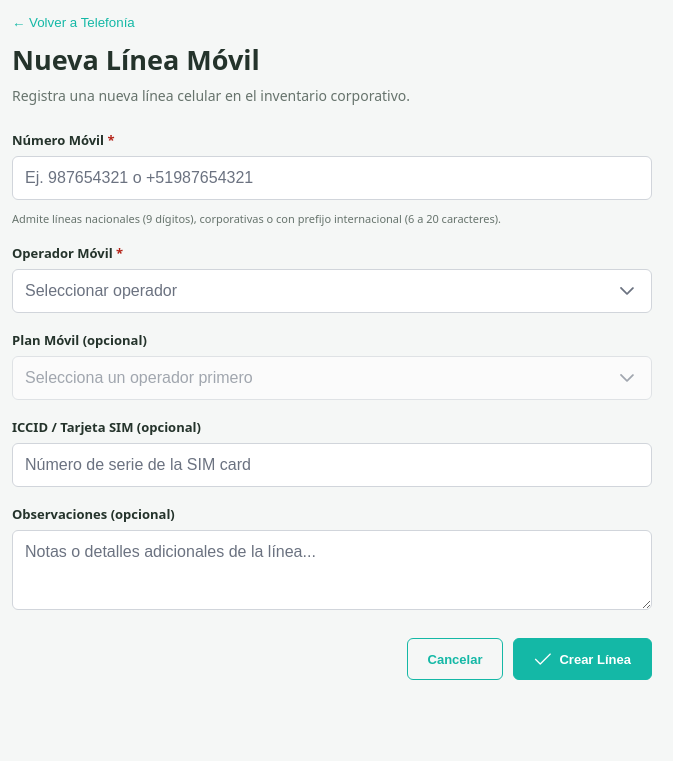
Test: Módulo de Telefonía Móvil › permite navegación en formulario de nueva línea y valida número
The width and height of the screenshot is (673, 761).
Expected: the heading "Nueva Línea Móvil" is shown, [12,41,260,78]
What coordinates should you click on to do the following:
click the button "Crear Línea"
I would click on:
 (583, 659)
Its box is [514,638,652,680].
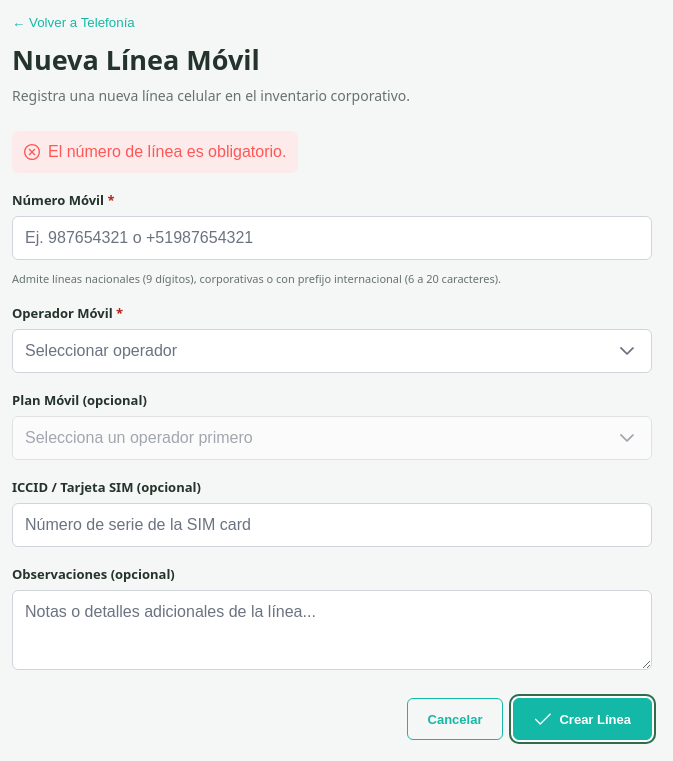
Expected: the text "El número de línea es obligatorio." is shown, [48,143,286,161]
